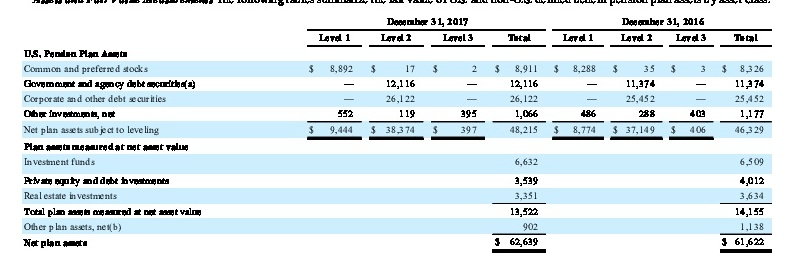table: (0, 0, 793, 268)
